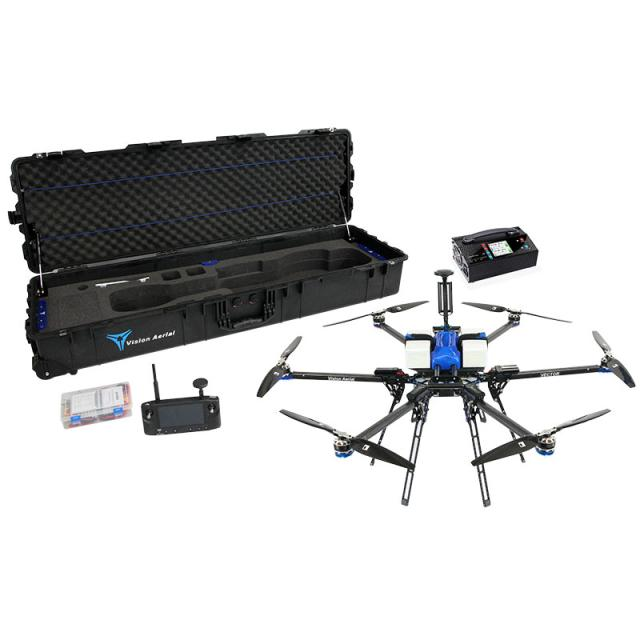drone: (248, 292, 638, 506)
